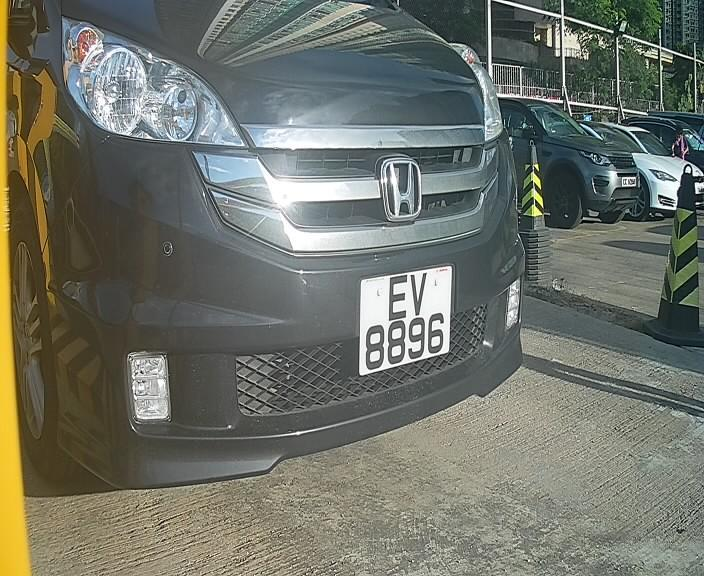Car: (35, 16, 535, 492)
License Plate: (353, 260, 456, 379)
